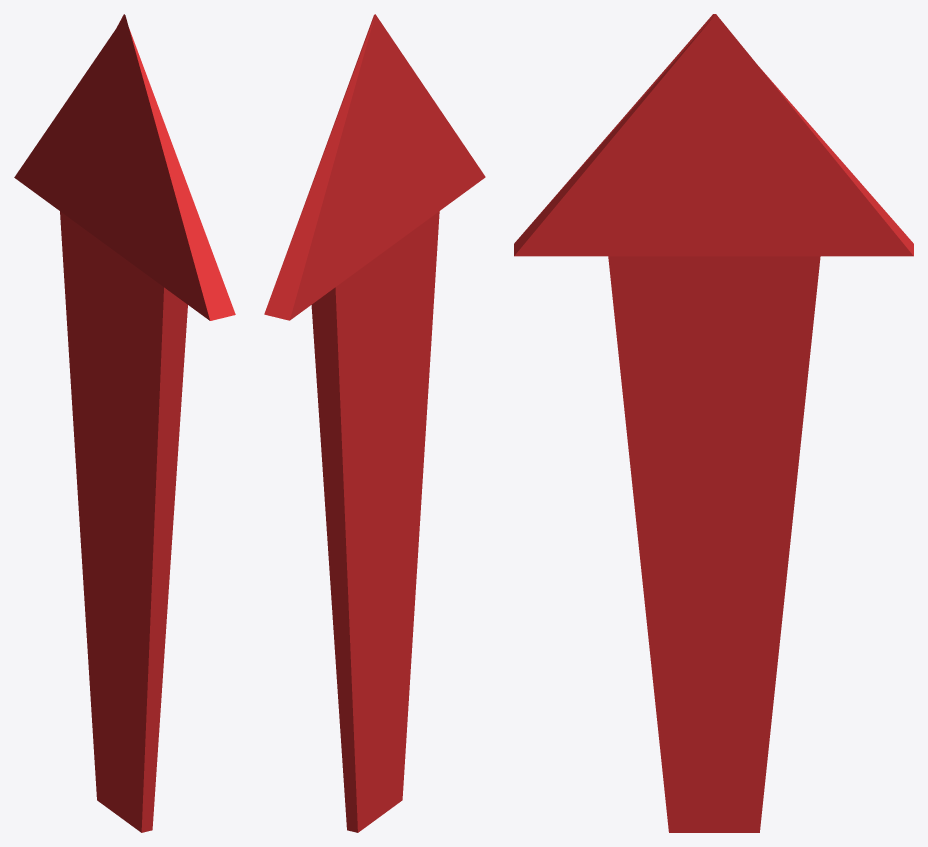
File: Arrow_1.fbx
3 renders of one model, left to right at view 1: azimuth 30°, elevation 25°; view 2: azimuth 150°, elevation 25°; view 3: azimuth 270°, elevation 25°, orthographic.
Parts seen in each view (by area): view 1: Cube, Cube.001; view 2: Cube, Cube.001; view 3: Cube, Cube.001.
Boxes of the visible parts, x1,y1,x2,y2 form: Cube: [60, 211, 187, 832]; Cube.001: [14, 14, 235, 320]; Cube: [311, 211, 439, 832]; Cube.001: [264, 14, 485, 320]; Cube: [608, 256, 820, 832]; Cube.001: [514, 14, 913, 256].
Bounding box in the file's own units: 1.42 × 42.41 × 18.83.
